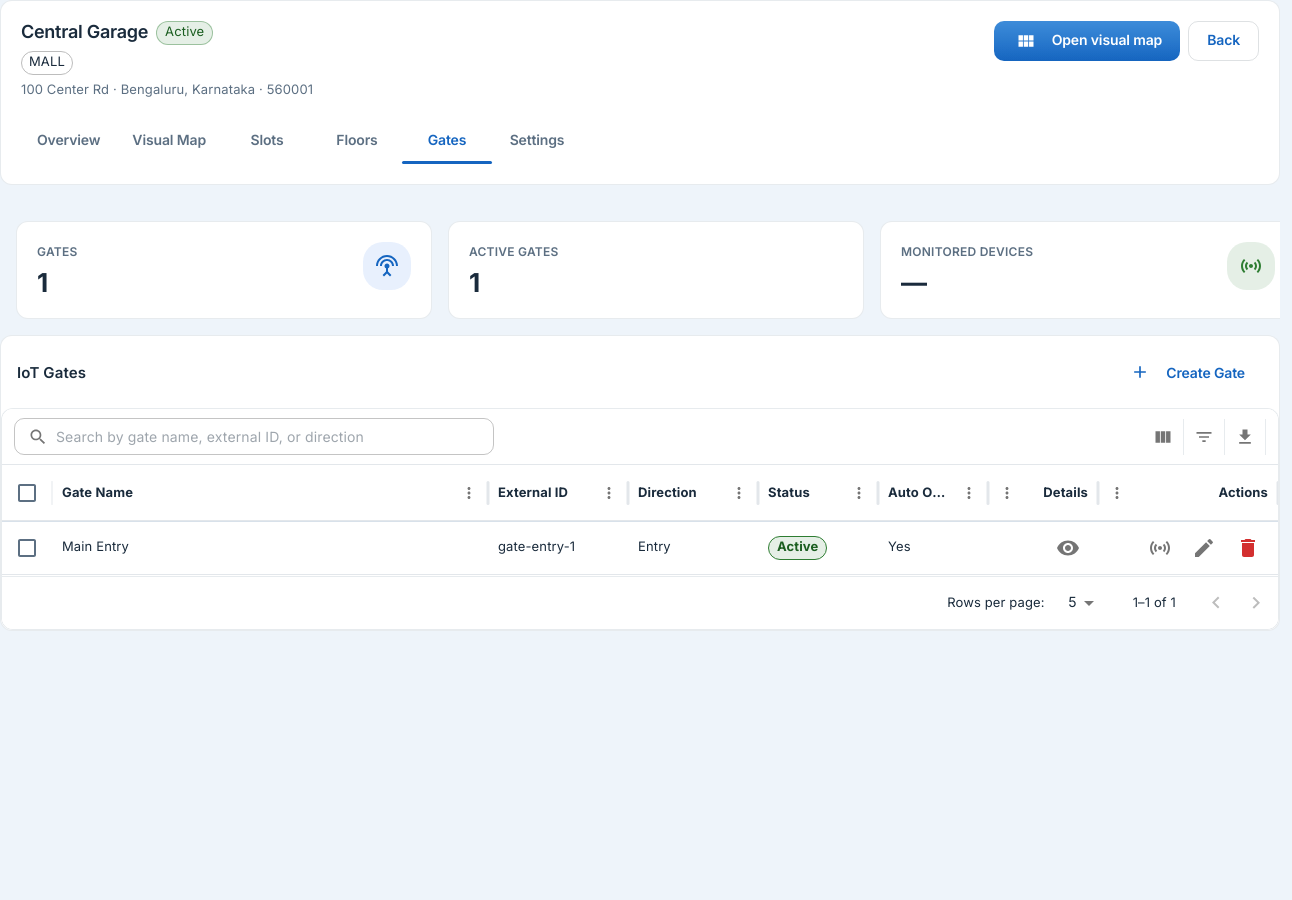
Test: ParkingLotGatesPage › opens device health panel for a gate
The image size is (1292, 900).
Expected: the text "Main Entry" is shown, 62,539 -> 129,555
Click the button named "view device health for main entry": point(1160, 548) 1140,528 -> 1180,568
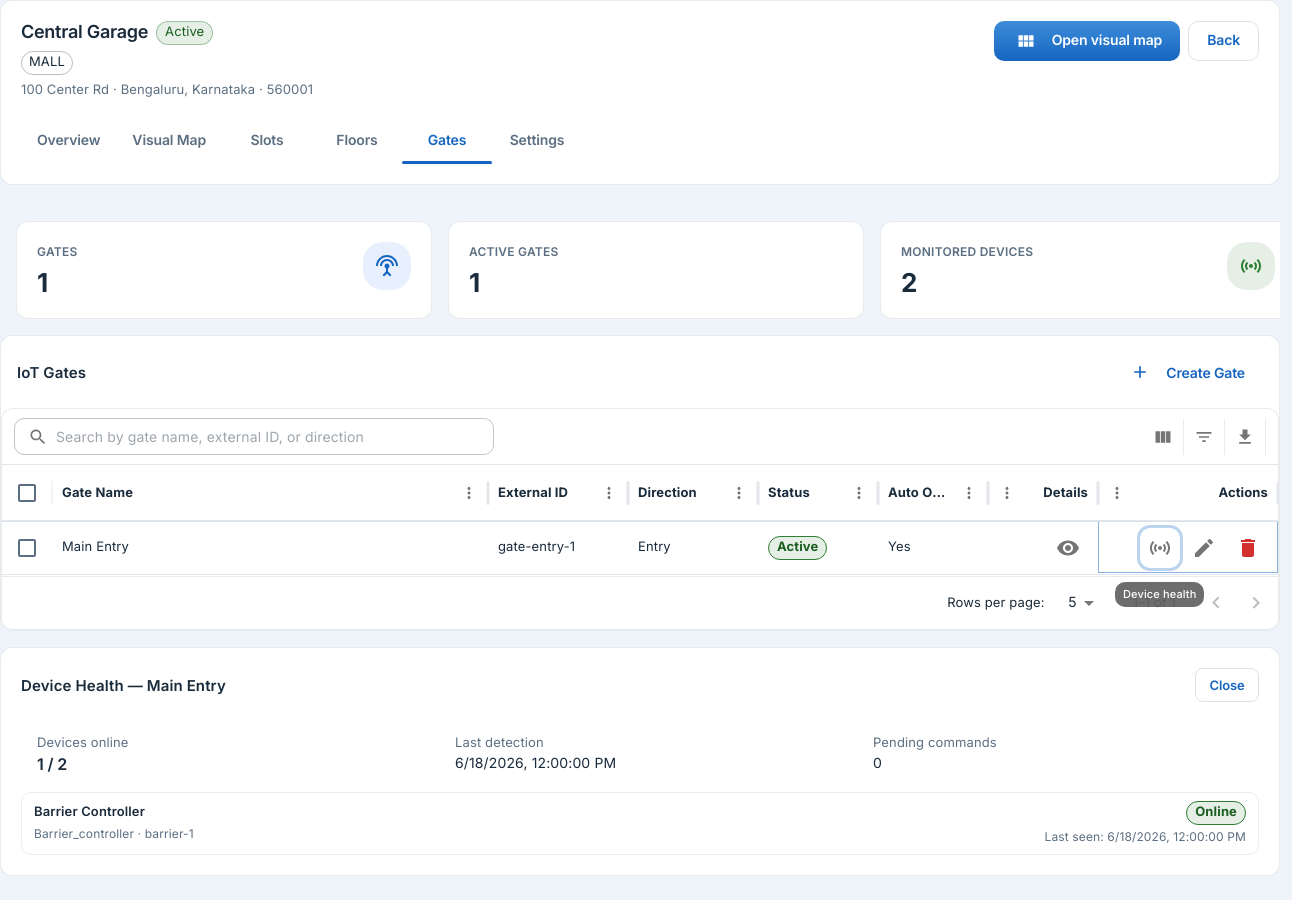
Expected: the heading "Device Health — Main Entry" is shown, 21,675 -> 226,696
Expected: the text "Barrier Controller" is shown, 34,804 -> 145,820
